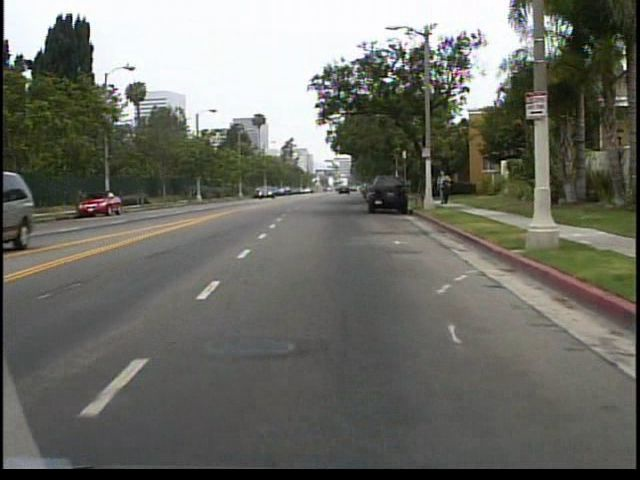person: (438, 169, 454, 208), (441, 172, 454, 206)
